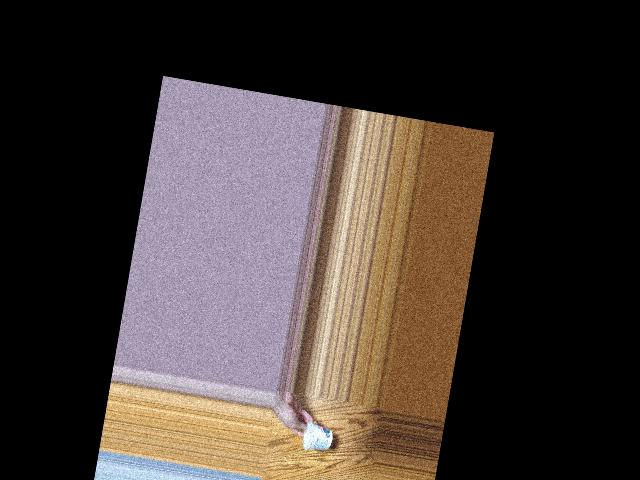cotage: (301, 426, 332, 458)
